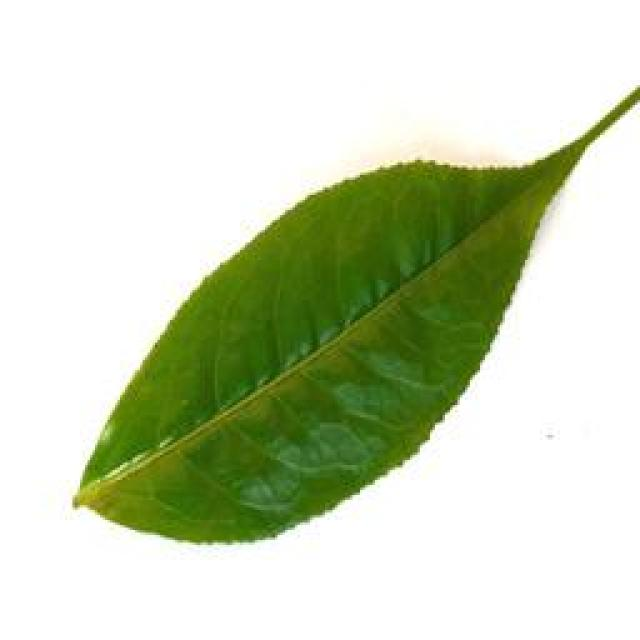Healthy: (68, 145, 566, 545)
